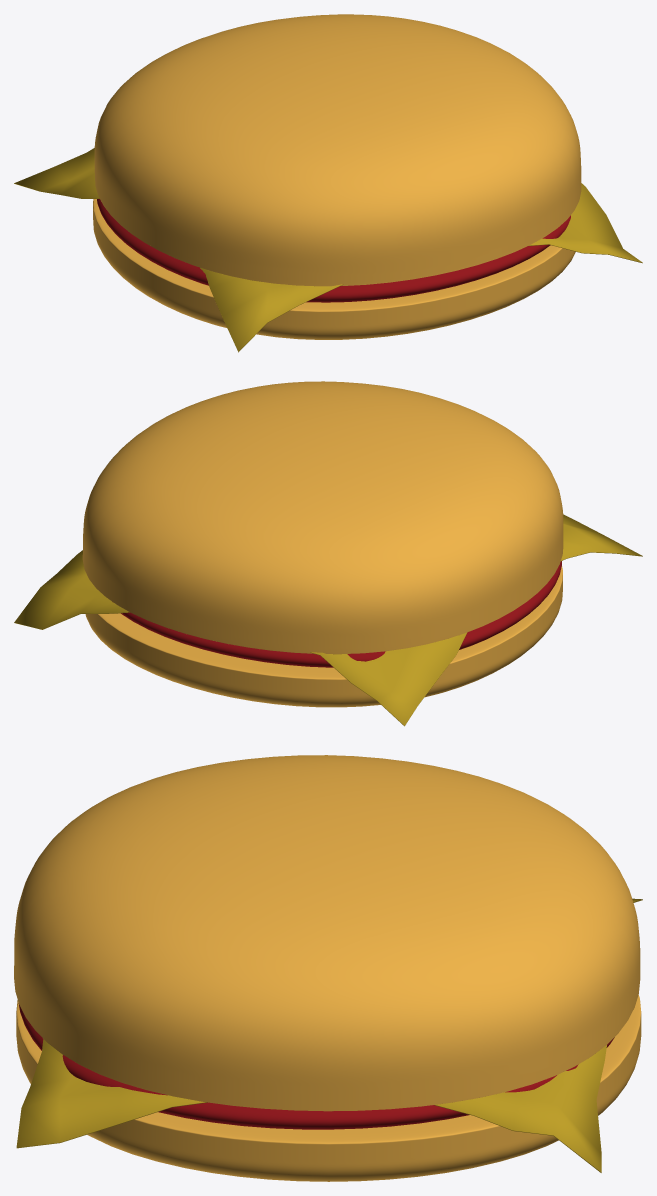
The model's file is ham.glb.
The picture shows the model from 3 angles, top to bottom: view 1: azimuth 30°, elevation 25°; view 2: azimuth 150°, elevation 25°; view 3: azimuth 270°, elevation 25°; orthographic projection. The views are drawn at different scales.
Parts seen in each view (by area): view 1: 物体.002, 物体.001, 平面, 物体; view 2: 物体.002, 物体.001, 平面, 物体; view 3: 物体.002, 物体.001, 平面, 物体.
Part boxes in pixels (x1,y1,x2,y2): 物体.002: (94, 14, 581, 286); 物体.001: (93, 199, 575, 339); 平面: (14, 148, 642, 352); 物体: (97, 199, 570, 302); 物体.002: (82, 381, 563, 654); 物体.001: (85, 566, 562, 707); 平面: (14, 514, 642, 726); 物体: (121, 561, 561, 667); 物体.002: (14, 755, 640, 1111); 物体.001: (16, 995, 641, 1181); 平面: (16, 898, 642, 1172); 物体: (18, 1003, 614, 1129).
Size of the model in its own units: 7.13 by 3.14 by 7.04.
